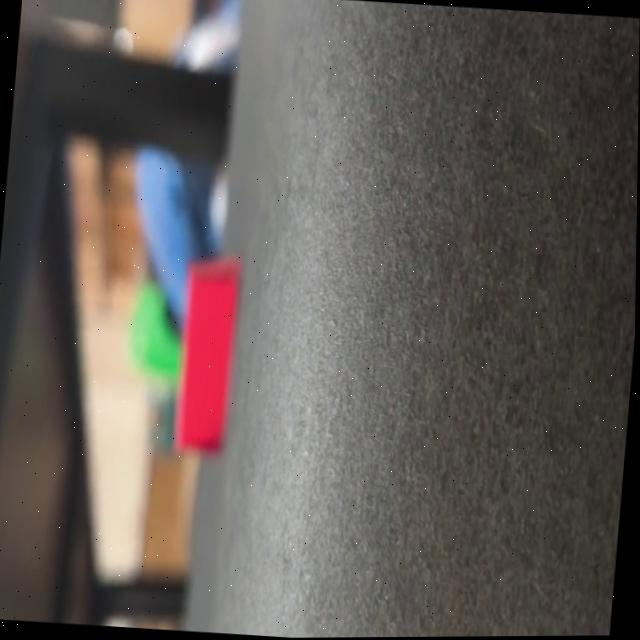red block: (170, 252, 243, 455)
